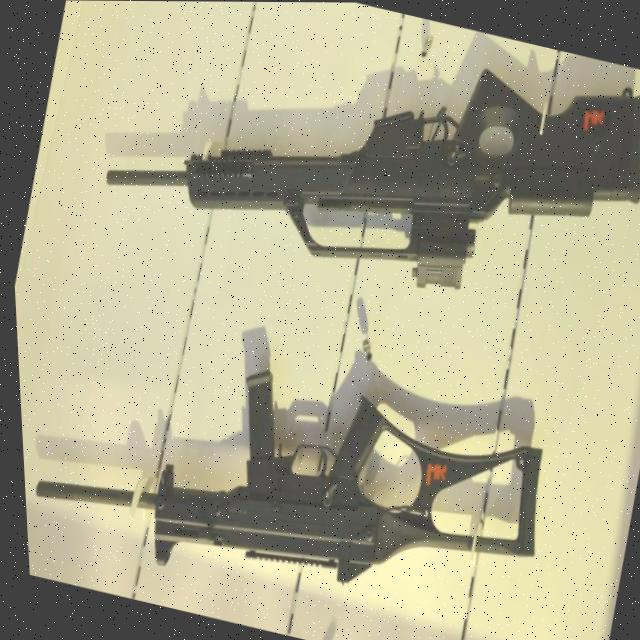firearm: (87, 1, 640, 336), (13, 323, 559, 640)
